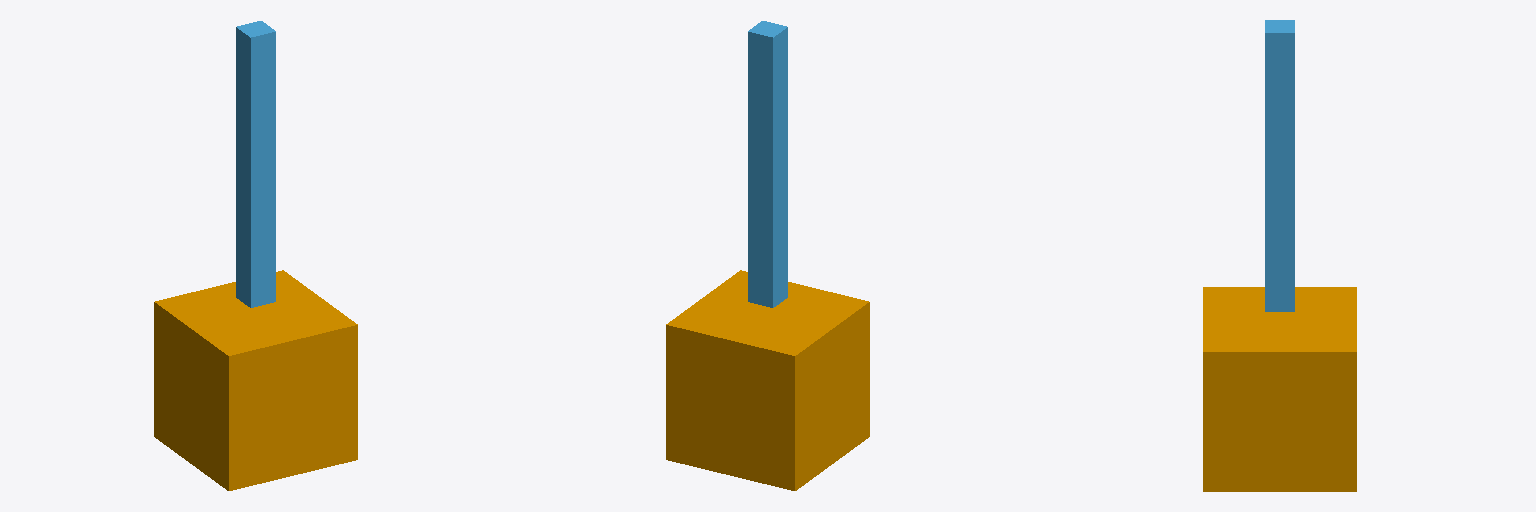
The robot description file, URDF, robot "tutorial_arm":
<?xml version="1.0"?>
<robot name="tutorial_arm">
  <link name="base">
    <inertial><mass value="1"/><inertia ixx="0.0067" ixy="0" ixz="0" iyy="0.0067" iyz="0" izz="0.0067"/></inertial>
    <visual><geometry><box size="0.2 0.2 0.2"/></geometry></visual>
    <collision><geometry><box size="0.2 0.2 0.2"/></geometry></collision>
  </link>
  <link name="arm">
    <inertial><origin xyz="0 0 0.2"/><mass value="0.3"/><inertia ixx="0.00404" ixy="0" ixz="0" iyy="0.00404" iyz="0" izz="0.00008"/></inertial>
    <visual><origin xyz="0 0 0.2"/><geometry><box size="0.04 0.04 0.4"/></geometry></visual>
    <collision><origin xyz="0 0 0.2"/><geometry><box size="0.04 0.04 0.4"/></geometry></collision>
  </link>
  <joint name="shoulder" type="revolute">
    <parent link="base"/><child link="arm"/><origin xyz="0 0 0.12"/><axis xyz="0 1 0"/>
    <limit lower="-1.2" upper="1.2" effort="20" velocity="2"/><dynamics damping="0.1" friction="0"/>
  </joint>
</robot>

--- What the picture shows (computed from the rendered views, not written in the file) ---
The picture shows the robot from 3 angles, left to right: view 1: azimuth 30°, elevation 25°; view 2: azimuth 150°, elevation 25°; view 3: azimuth 270°, elevation 25°; orthographic projection.
Model tutorial_arm with 2 links and 1 joints (1 revolute), rooted at base, posed all joints at 0.
Visible links, largest first — view 1: base, arm; view 2: base, arm; view 3: base, arm.
Boxes of the visible links, x1,y1,x2,y2 form: base: [154, 270, 357, 490]; arm: [236, 21, 275, 307]; base: [666, 270, 869, 490]; arm: [748, 21, 787, 307]; base: [1203, 287, 1356, 491]; arm: [1265, 20, 1294, 311].
Size in the robot's own frame: 0.2 by 0.2 by 0.62 metres.
Geometry: primitives only (box / cylinder / sphere), no mesh files.
